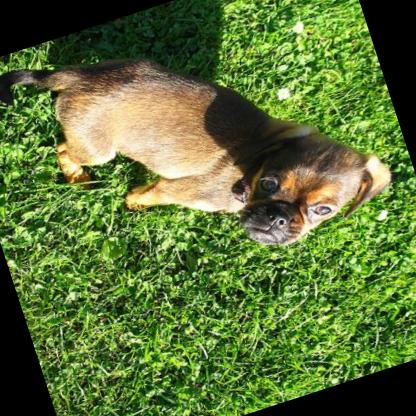Brabancon_griffon: (0, 0, 404, 322)
